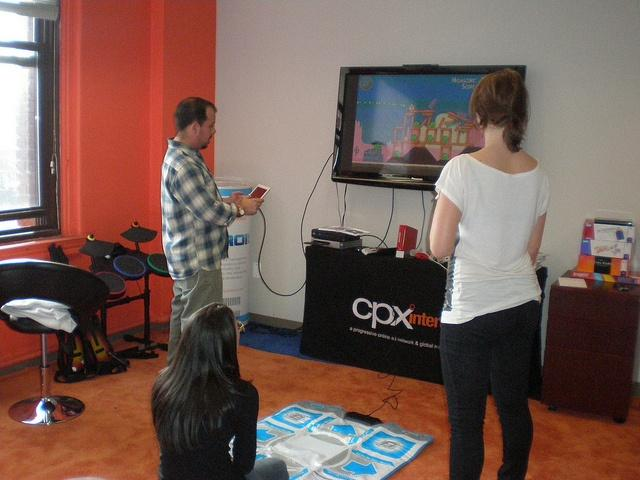AIO PC-Monitor-TV: (330, 64, 488, 193)
